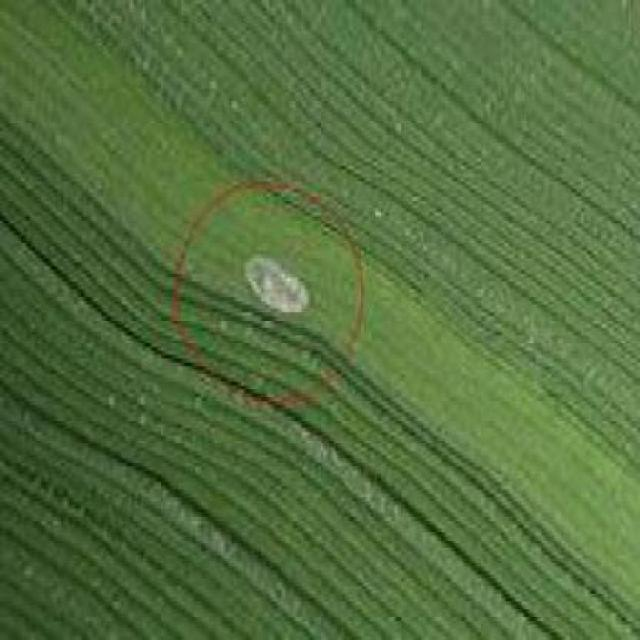leaf-folder: (232, 213, 317, 345)
